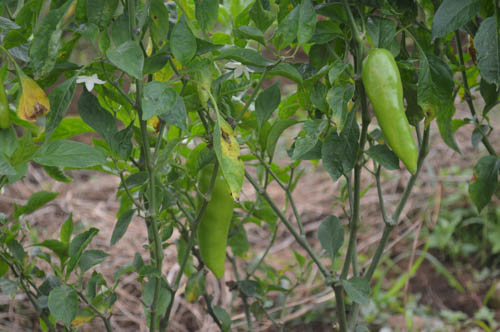ChiliPepper: (366, 51, 419, 171), (193, 170, 239, 285)
